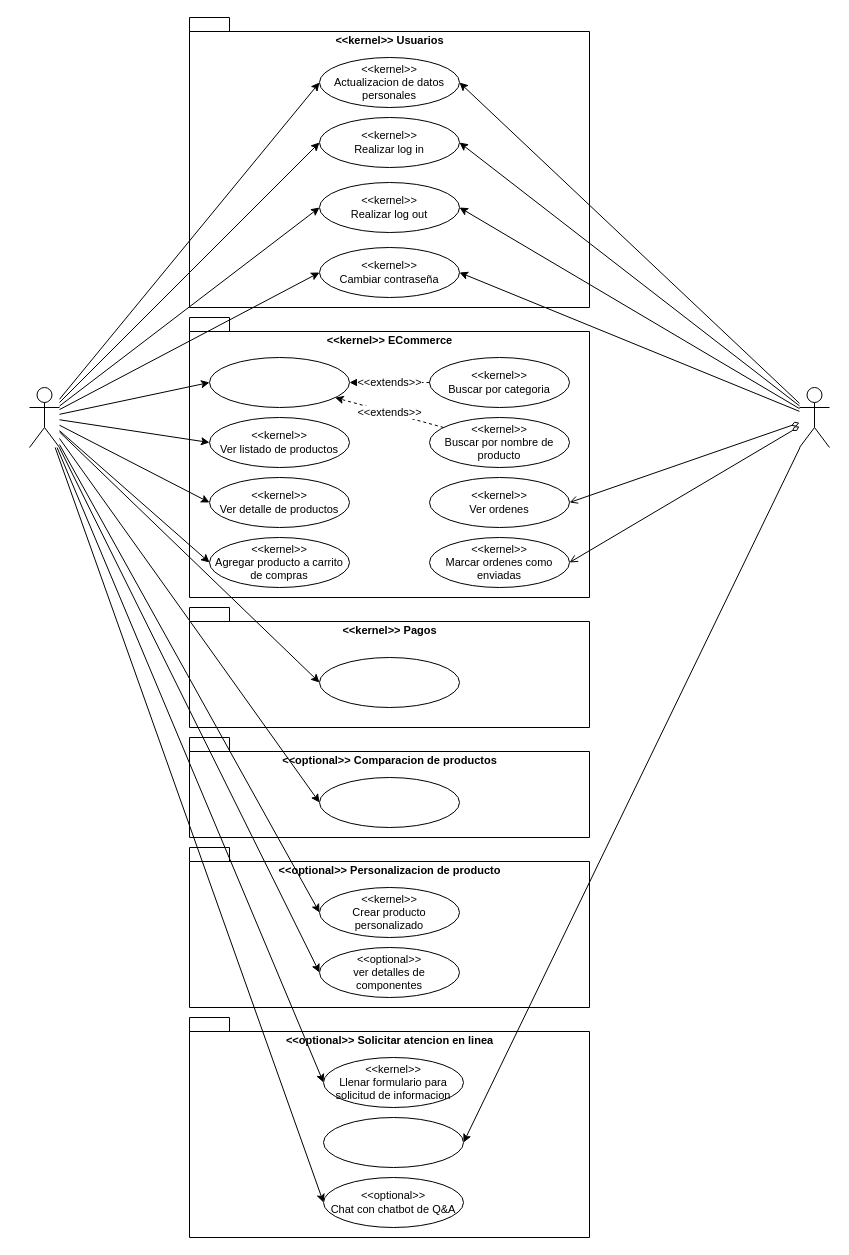
Some shapes in this 849 by 1255 pixel diagram are drawn without their labels. Each missing label, with the centre of its shape:
<<kernel>> Buscar productos: pixel 279 382
<<kernel>> Realizar comparacion de 2 productos: pixel 389 802
<<kernel>> Realizar pago: pixel 389 682
<<kernel>> Responder a solicitud de informacion: pixel 393 1142
Asesor: pixel 814 417
Comprador: pixel 44 417
